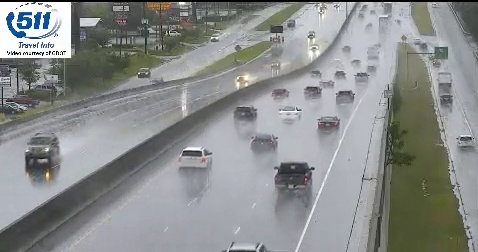car: (275, 163, 312, 190), (179, 147, 212, 171), (251, 133, 279, 151), (233, 106, 257, 121), (317, 116, 339, 131), (278, 106, 300, 121)
